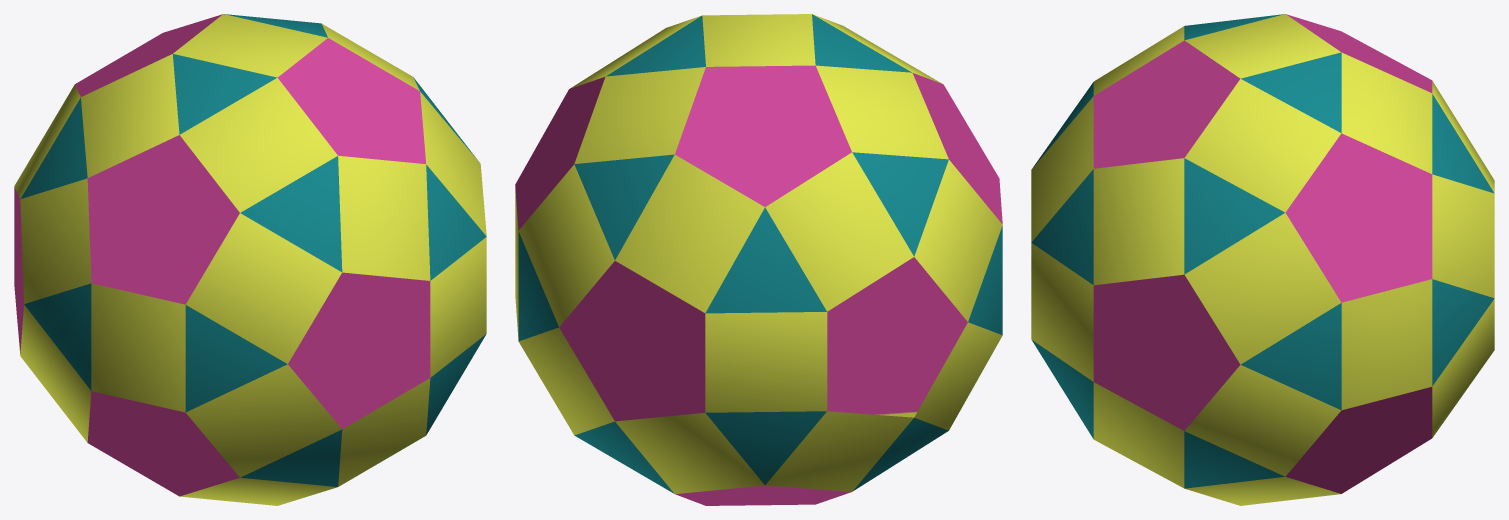
Rendered from ball_Old.fbx.
The picture shows the model from 3 angles, left to right: view 1: azimuth 30°, elevation 25°; view 2: azimuth 150°, elevation 25°; view 3: azimuth 270°, elevation 25°; orthographic projection. The views are drawn at different scales.
Visible parts, largest first — view 1: ball; view 2: ball; view 3: ball.
Part boxes in pixels (left/top/right/bottom): ball: left=14, top=14, right=486, bottom=505; ball: left=515, top=14, right=1002, bottom=505; ball: left=1031, top=14, right=1494, bottom=505.
Size of the model in its own units: 1.65 by 1.57 by 1.54.
